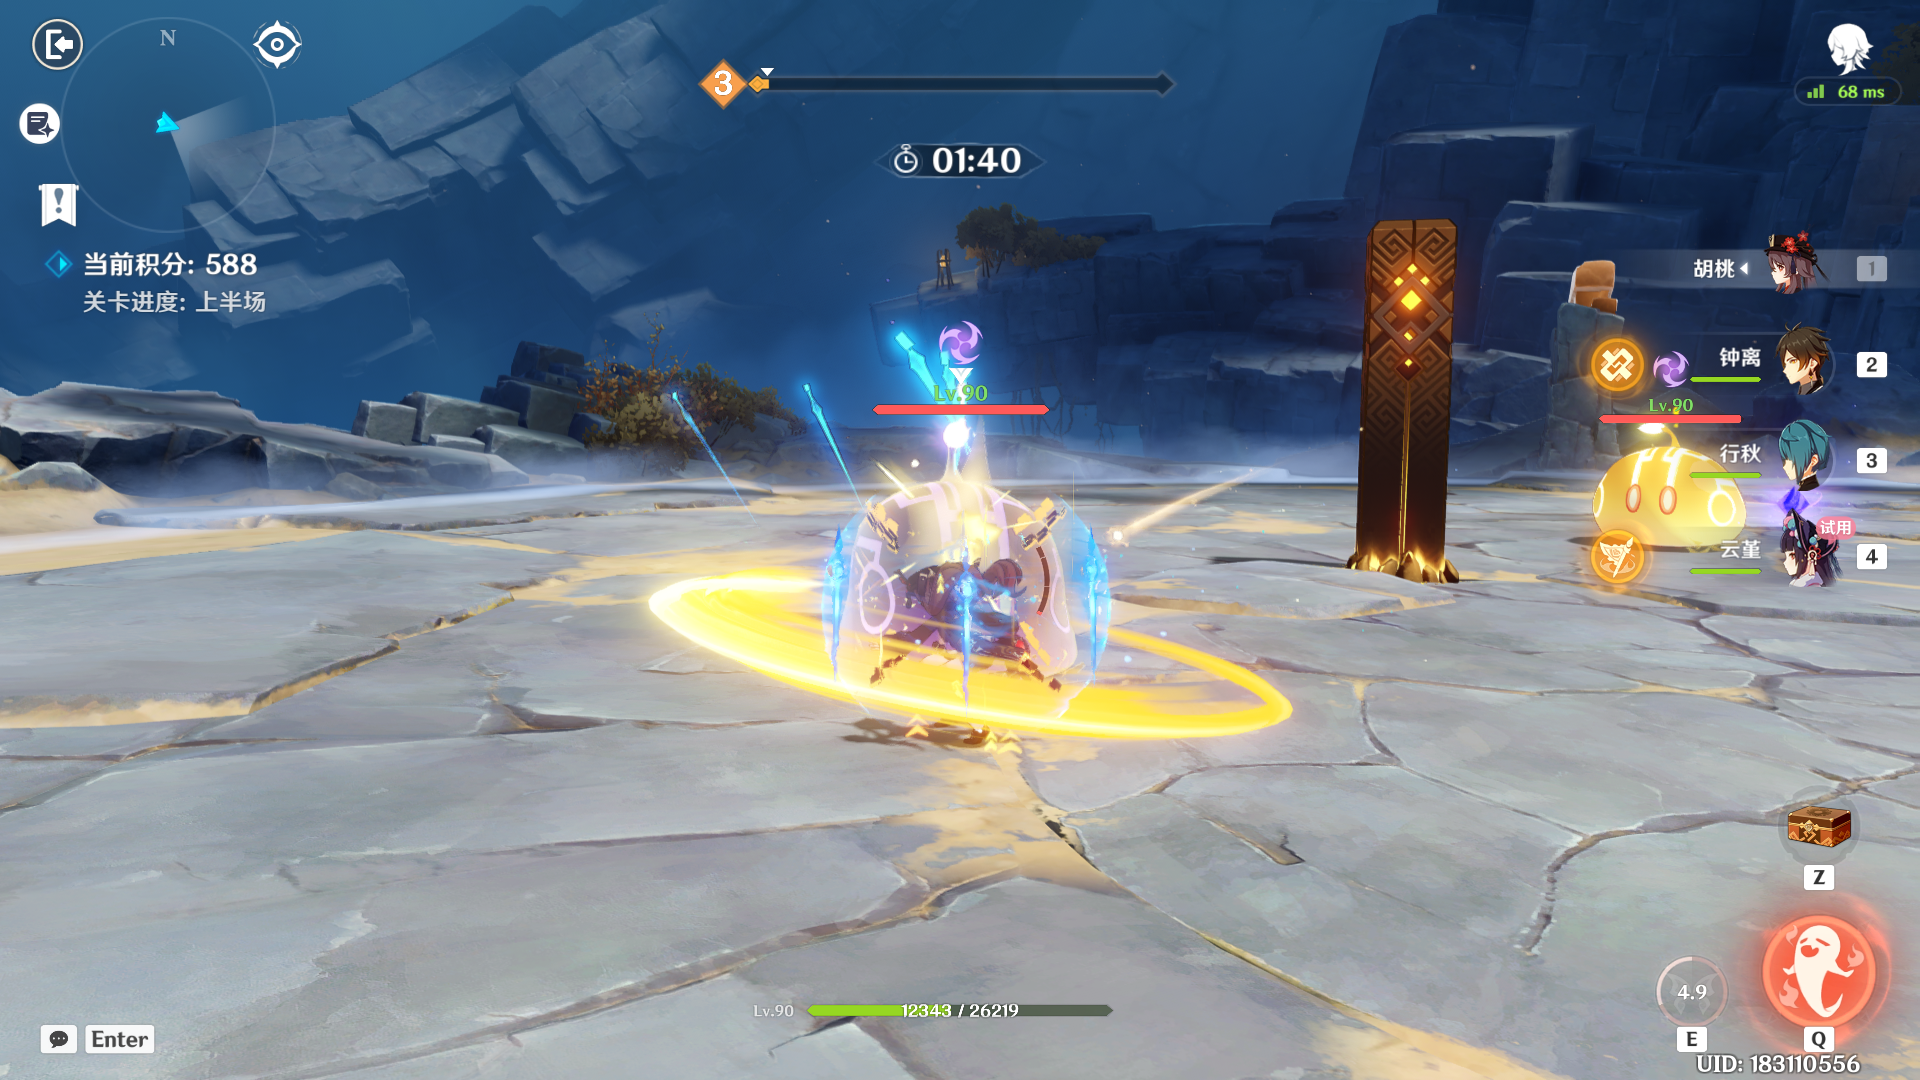character: (840, 492, 1101, 760)
slime: (1565, 430, 1758, 584)
